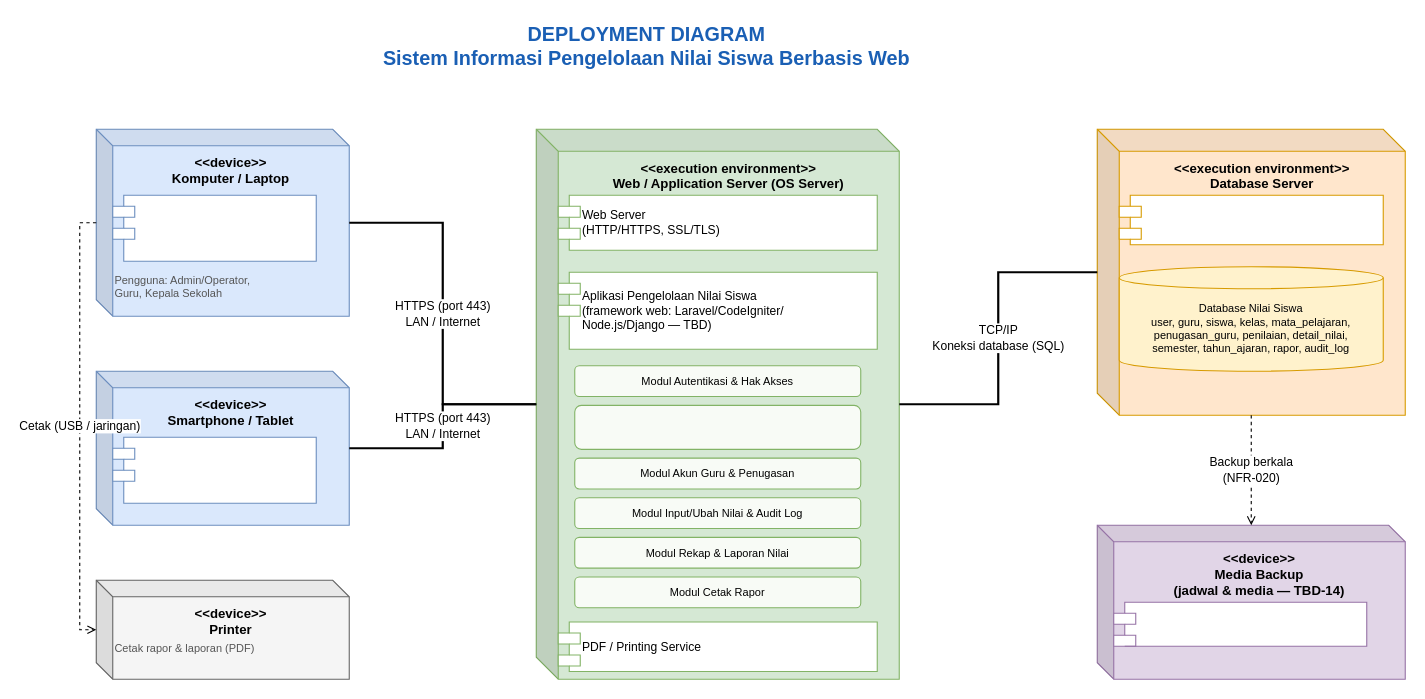
Some shapes in this 1425 by 699 pixel diagram are drawn without their labels. The shapes that lost their labels are listed below. From the top down, each one's centre as x and y in pixels, then its label:
At (214,227): "Web Browser Modern (Chrome, Firefox, Edge, Safari)".
At (1250,219): "DBMS (basis data terstruktur)".
At (717,426): "Modul Data Master (Guru, Siswa, Kelas, Mapel, Tahun Ajaran, Semester)".
At (214,469): "Web Browser Modern (antarmuka responsif)".
At (1240,623): "Salinan backup database".
